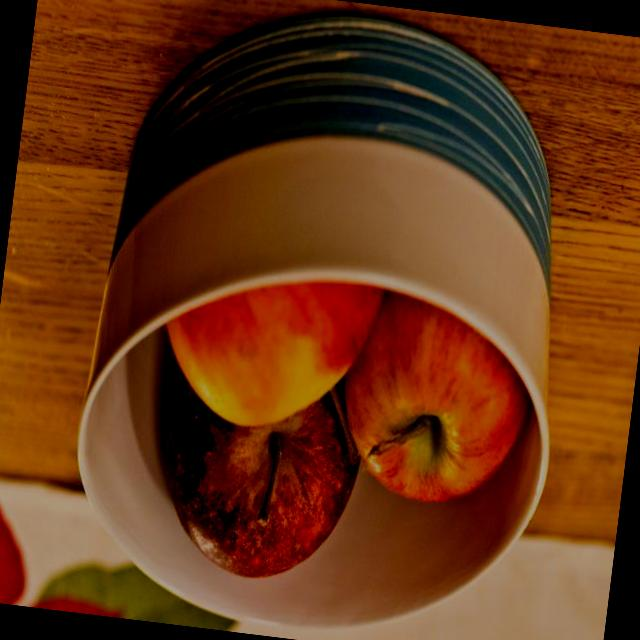Apple: (147, 364, 368, 591), (329, 288, 540, 514), (156, 244, 382, 441)
